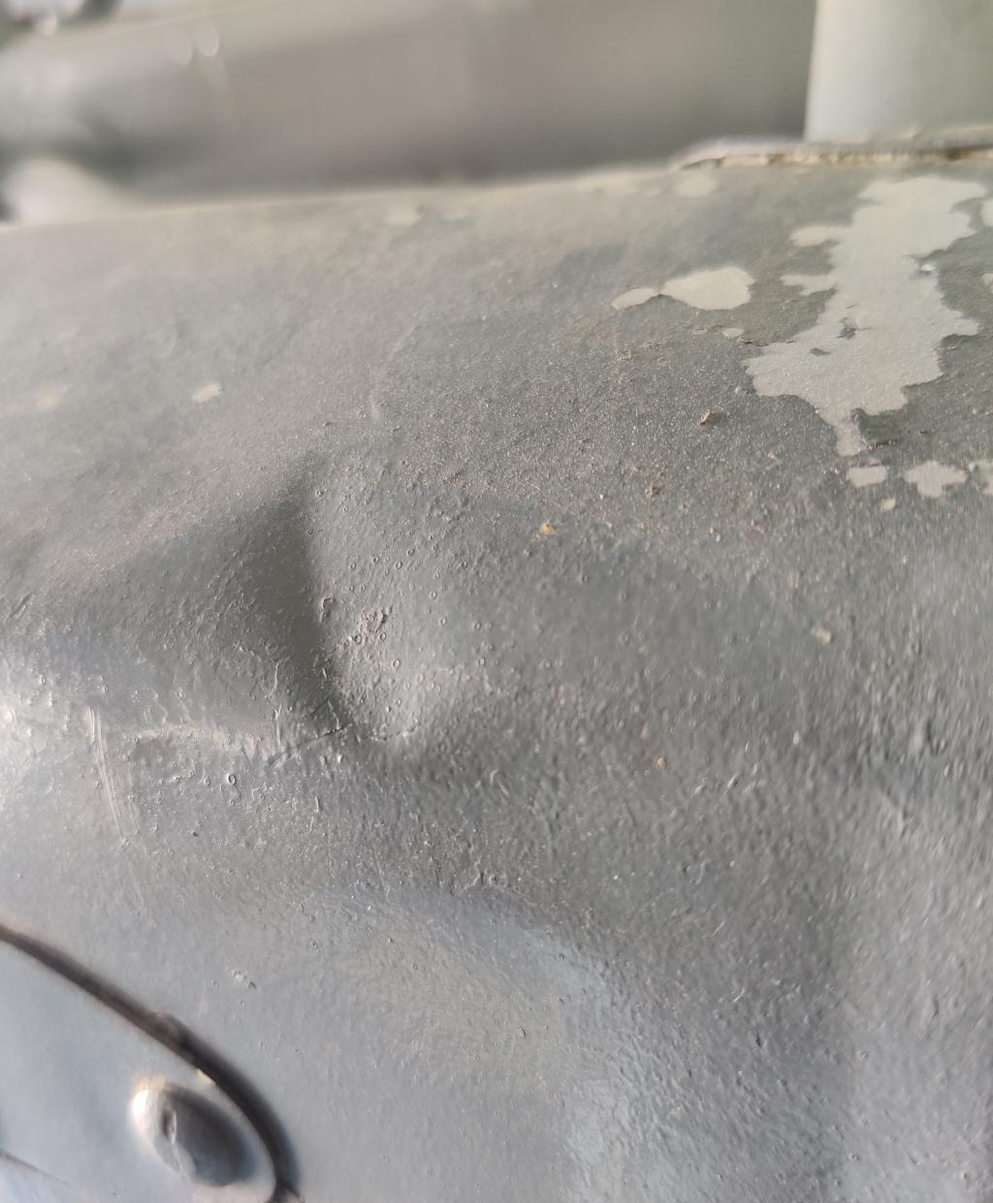corrosion: (593, 153, 993, 529)
dent: (192, 429, 470, 826)
